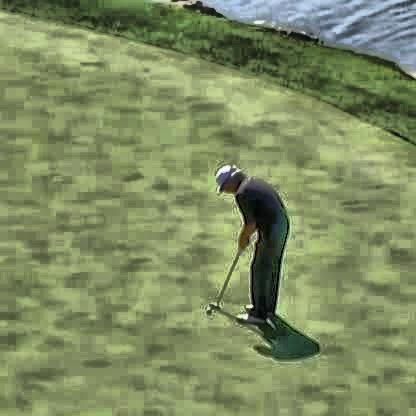golfball: (203, 303, 210, 310)
